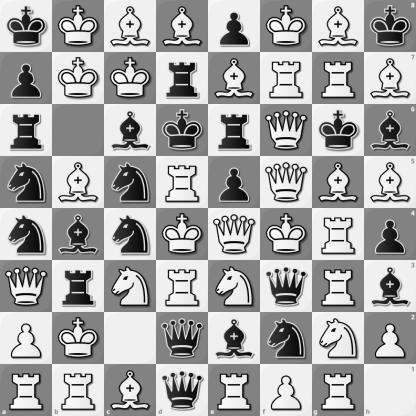B: (364, 156, 416, 209), (104, 364, 156, 416), (364, 52, 416, 104), (53, 157, 104, 208), (105, 1, 156, 52), (157, 1, 208, 52), (209, 53, 260, 104), (313, 1, 364, 52), (313, 157, 364, 208)
K: (53, 1, 104, 52), (53, 53, 104, 104), (53, 313, 104, 364), (105, 53, 156, 104), (157, 209, 208, 260), (261, 1, 312, 52), (261, 209, 312, 260)
N: (105, 261, 156, 312), (209, 261, 260, 312), (313, 313, 364, 364)
P: (260, 364, 312, 416), (364, 312, 416, 364), (1, 313, 52, 364)
Q: (1, 261, 52, 312), (209, 209, 260, 260), (261, 105, 312, 156), (261, 157, 312, 208)
R: (0, 364, 52, 416), (52, 364, 104, 416), (312, 364, 364, 416), (209, 364, 260, 416), (157, 157, 208, 208), (157, 261, 208, 312), (261, 53, 312, 104), (313, 53, 364, 104), (313, 209, 364, 260), (313, 261, 364, 312)
b: (364, 104, 416, 156), (364, 260, 416, 312), (53, 209, 104, 260), (105, 105, 156, 156), (209, 313, 260, 364)
board: (0, 0, 415, 415)
k: (364, 0, 416, 52), (1, 1, 52, 52), (157, 105, 208, 156), (313, 105, 364, 156)
n: (1, 157, 52, 208), (1, 209, 52, 260), (105, 157, 156, 208), (105, 209, 156, 260), (261, 313, 312, 364)
p: (364, 209, 416, 260), (1, 53, 52, 104), (209, 1, 260, 52), (209, 157, 260, 208)
q: (156, 364, 209, 416), (157, 313, 208, 364), (261, 261, 312, 312)
r: (1, 105, 52, 156), (53, 261, 104, 312), (157, 53, 208, 104), (209, 105, 260, 156)
